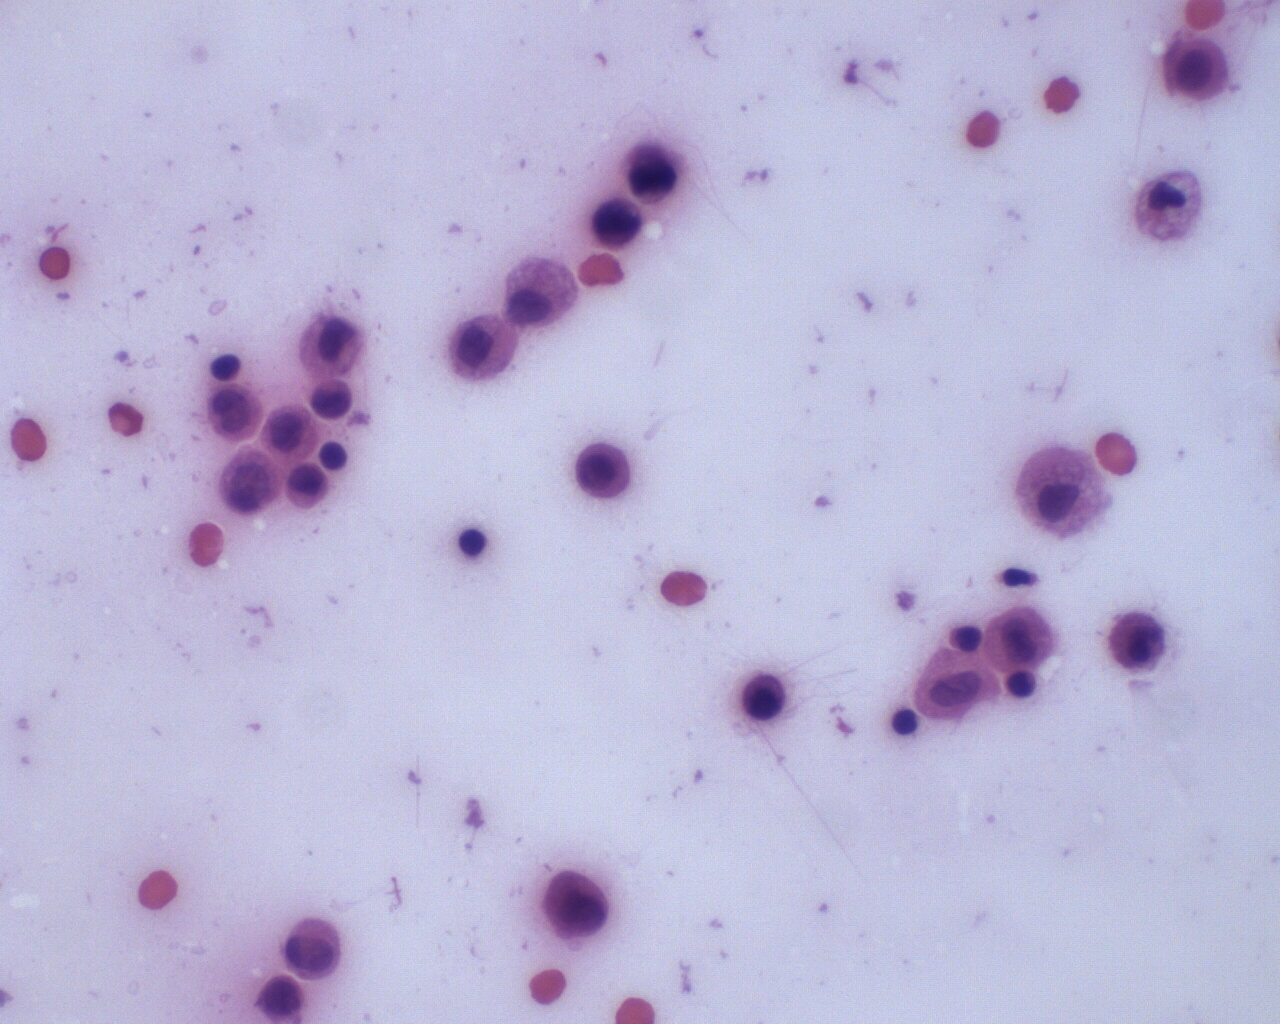ab: (538, 865, 613, 945), (219, 444, 285, 518), (284, 913, 344, 983), (1106, 606, 1168, 672), (207, 380, 265, 445), (590, 196, 647, 253), (628, 147, 681, 204), (254, 974, 308, 1022)
histo: (1135, 165, 1208, 247)
lymph: (1005, 666, 1044, 704), (315, 435, 352, 471), (207, 346, 246, 381), (456, 520, 489, 559), (888, 705, 920, 737)
meso: (502, 252, 578, 326), (443, 311, 518, 385), (1163, 30, 1233, 108), (576, 439, 635, 502)
